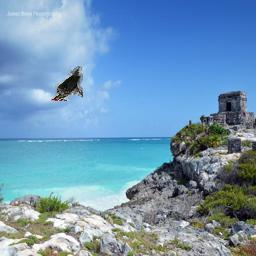Woodpecker: (51, 67, 83, 102)
